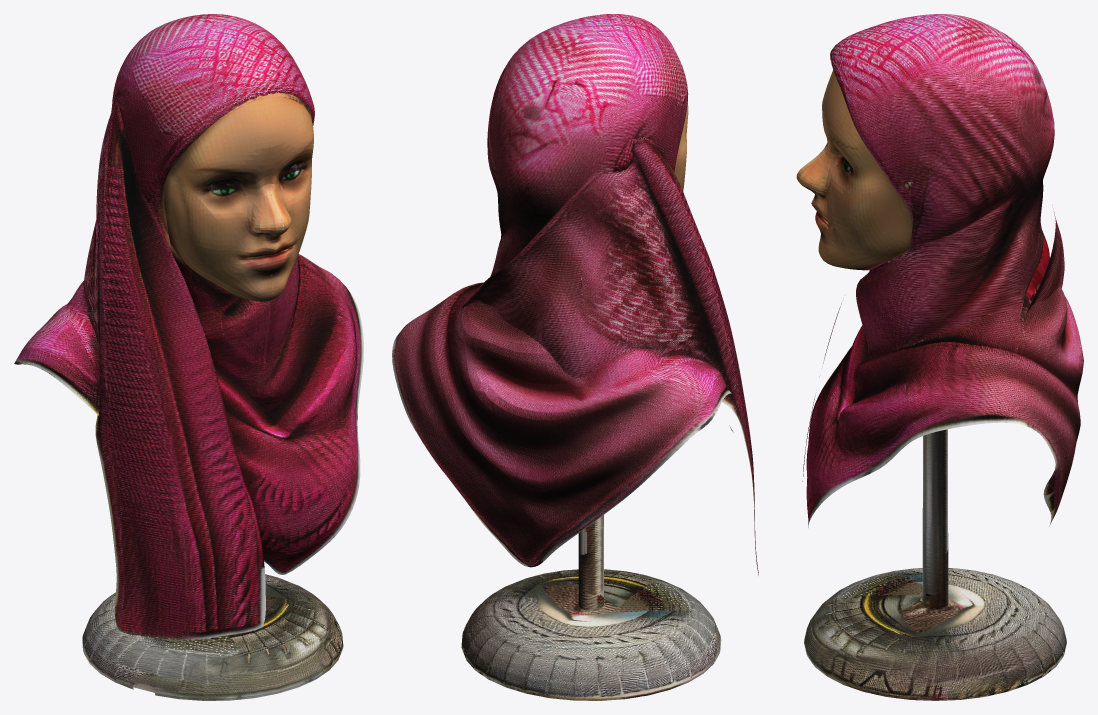
File: textured_ours.glb
3 renders of one model, left to right at view 1: azimuth 30°, elevation 25°; view 2: azimuth 150°, elevation 25°; view 3: azimuth 270°, elevation 25°, orthographic.
Parts seen in each view (by area): view 1: Node; view 2: Node; view 3: Node.
Part boxes in pixels (x1=…): Node: x1=14, y1=14, x2=363, y2=700; Node: x1=392, y1=14, x2=758, y2=700; Node: x1=796, y1=14, x2=1083, y2=700.
Size of the model in its own units: 1.07 by 2 by 0.8639.
Materials: 1 (1 with a texture image).
